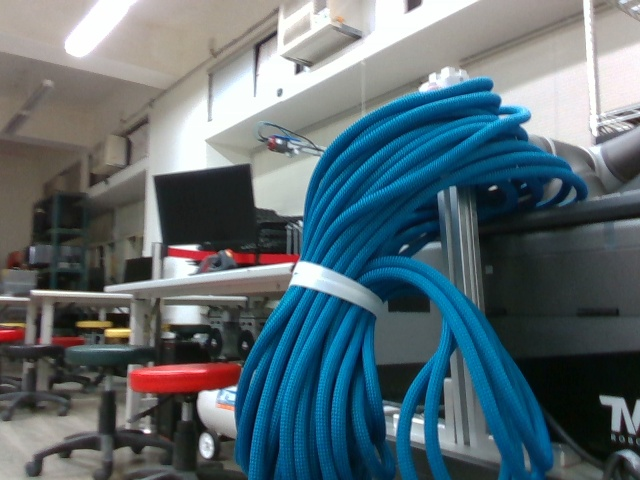rope: (229, 74, 593, 480)
